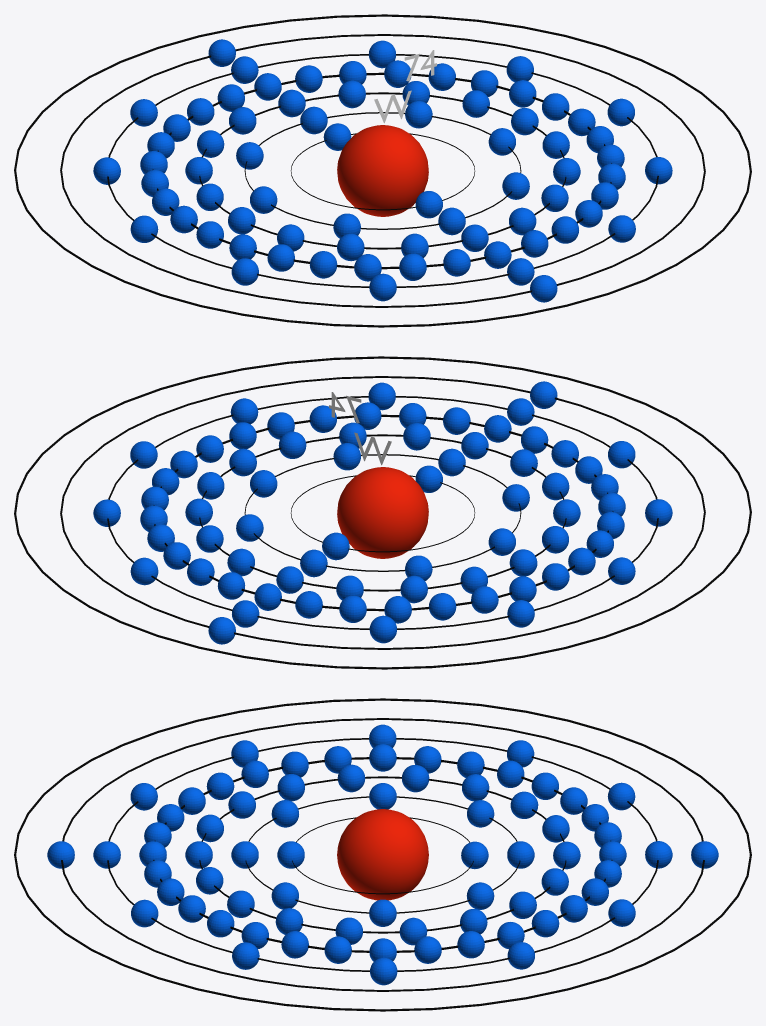
3 views of the same model, one above another, from view 1: azimuth 30°, elevation 25°; view 2: azimuth 150°, elevation 25°; view 3: azimuth 270°, elevation 25° (orthographic).
Parts seen in each view (by area): view 1: W4, W3, W5, Proton, W2, n7, n6, n5, W6, W1, n3, n4 (+1 smaller); view 2: W4, W3, W5, Proton, W2, n7, n6, n5, W6, W1, n3, n4 (+1 smaller); view 3: W4, W3, W5, Proton, W2, n7, n6, n5, W1, W6, n3, n4 (+2 smaller).
Boxes of the visible parts, x1,y1,x2,y2 form: W4: (140,60,625,281); W3: (185,80,580,261); W5: (93,40,672,301); Proton: (337,125,428,216); W2: (236,101,529,238); n7: (14,14,751,327); n6: (60,34,705,307); n5: (107,54,658,287); W6: (208,39,557,302); W1: (323,123,442,218); n3: (199,92,566,249); n4: (152,72,611,269); W4: (140,402,625,623); W3: (185,422,580,603); W5: (93,382,672,643); Proton: (337,467,428,558); W2: (236,443,529,580); n7: (14,356,751,669); n6: (60,376,705,649); n5: (107,396,658,629); W6: (208,381,557,644); W1: (322,465,442,560); n3: (199,434,566,591); n4: (153,414,613,611); W4: (139,744,626,963); W3: (185,764,580,945); W5: (93,724,672,985); Proton: (337,809,428,900); W2: (231,783,534,926); n7: (14,698,751,1011); n6: (61,718,704,991); n5: (107,738,658,971); W1: (277,841,488,869); W6: (47,841,718,868); n3: (199,776,566,933); n4: (153,757,612,952).
Bounding box in the file's own units: 802 × 180 × 802.
